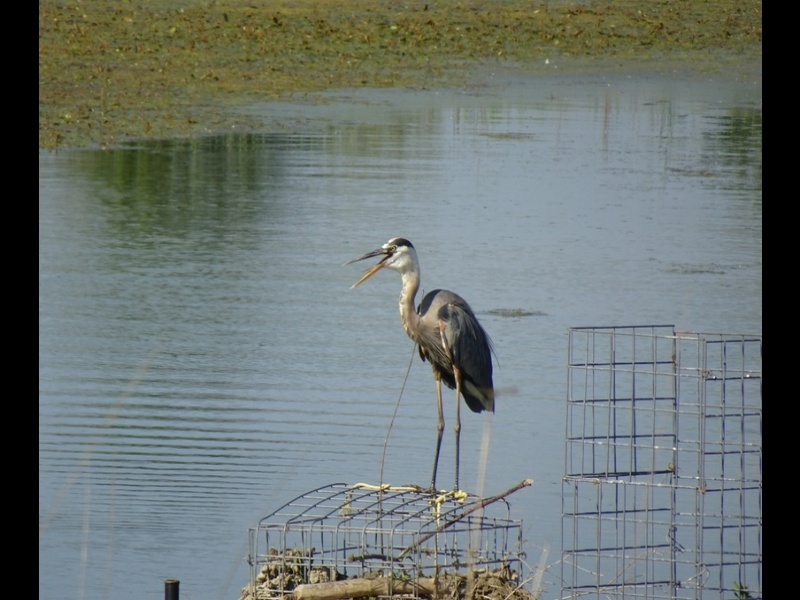heron: (346, 232, 498, 509)
